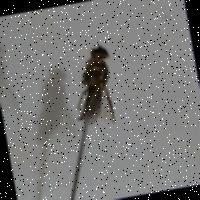Oriental-fruit-fly: (33, 8, 136, 145)
